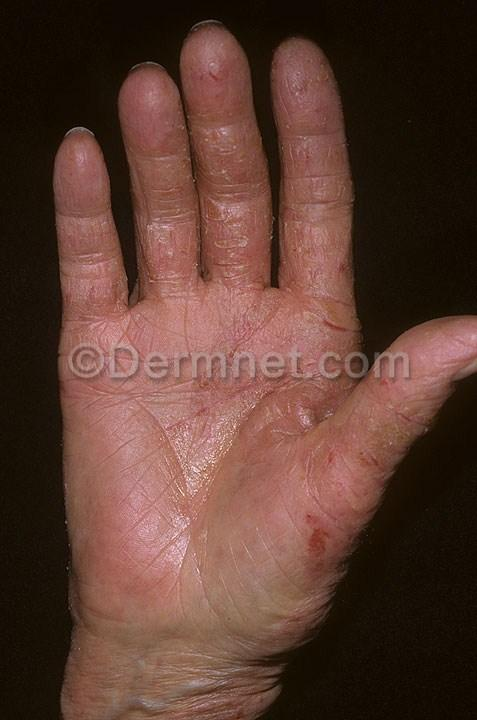Eczema: (123, 97, 358, 325), (127, 388, 307, 496), (332, 384, 420, 476), (278, 505, 360, 599), (61, 248, 122, 327), (57, 139, 101, 220)
